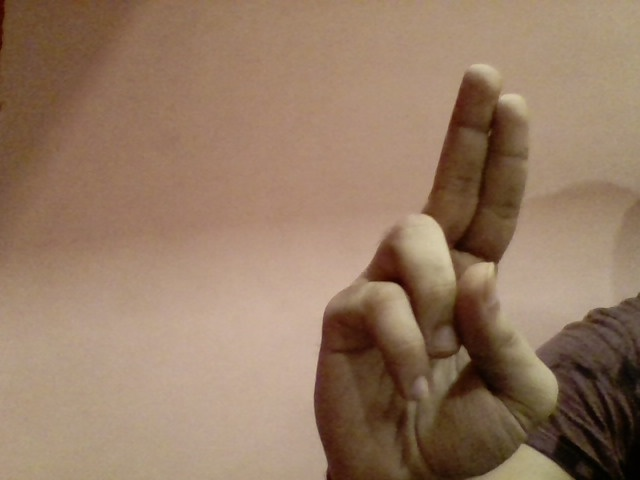u: (299, 55, 566, 474)
